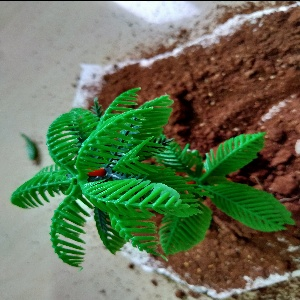plant: (7, 81, 300, 268)
